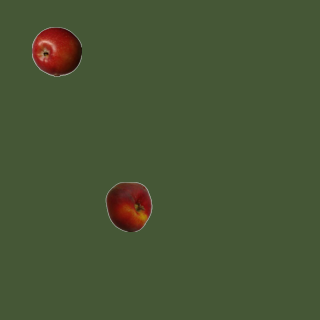Apple Braeburn: (31, 26, 81, 76)
Nectarine Flat: (103, 181, 153, 231)
